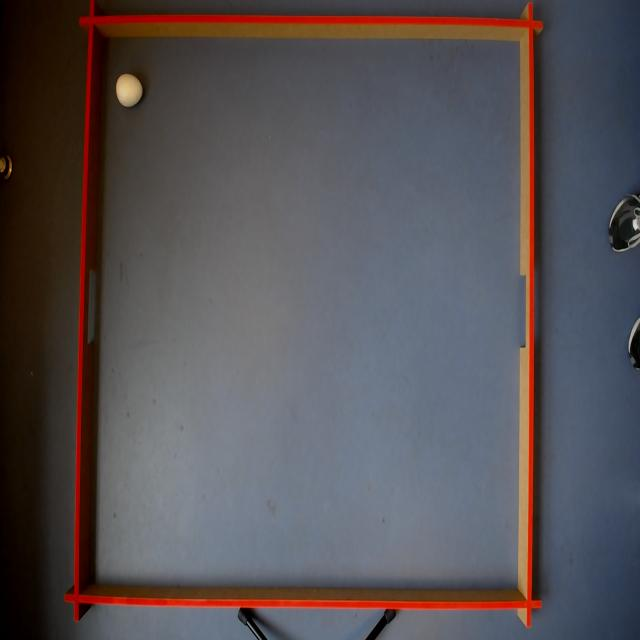egg: (115, 72, 144, 110)
